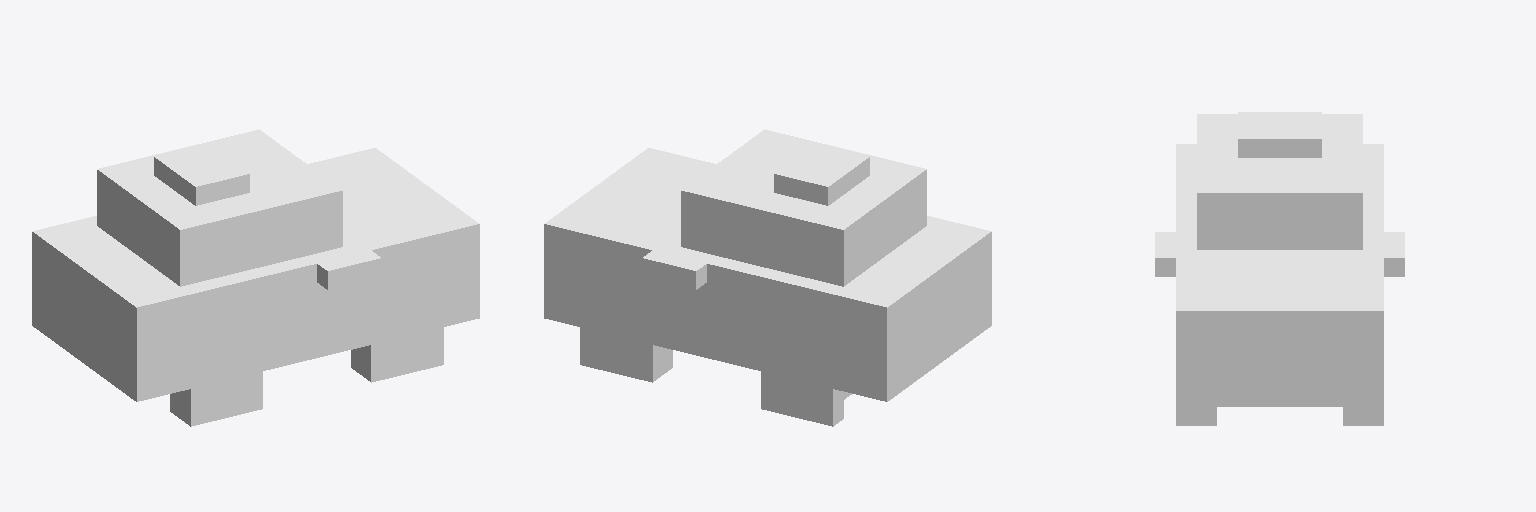
Rendered from car.obj.
3 views of the same model, side by side, from view 1: azimuth 30°, elevation 25°; view 2: azimuth 150°, elevation 25°; view 3: azimuth 270°, elevation 25° (orthographic).
Visible parts, largest first — view 1: object 1; view 2: object 1; view 3: object 1.
Part boxes in pixels (x1,y1,x2,y2): object 1: (32, 129, 479, 426); object 1: (544, 129, 991, 426); object 1: (1155, 112, 1404, 425).
Size of the model in its own units: 1.9 by 1.1 by 1.2.